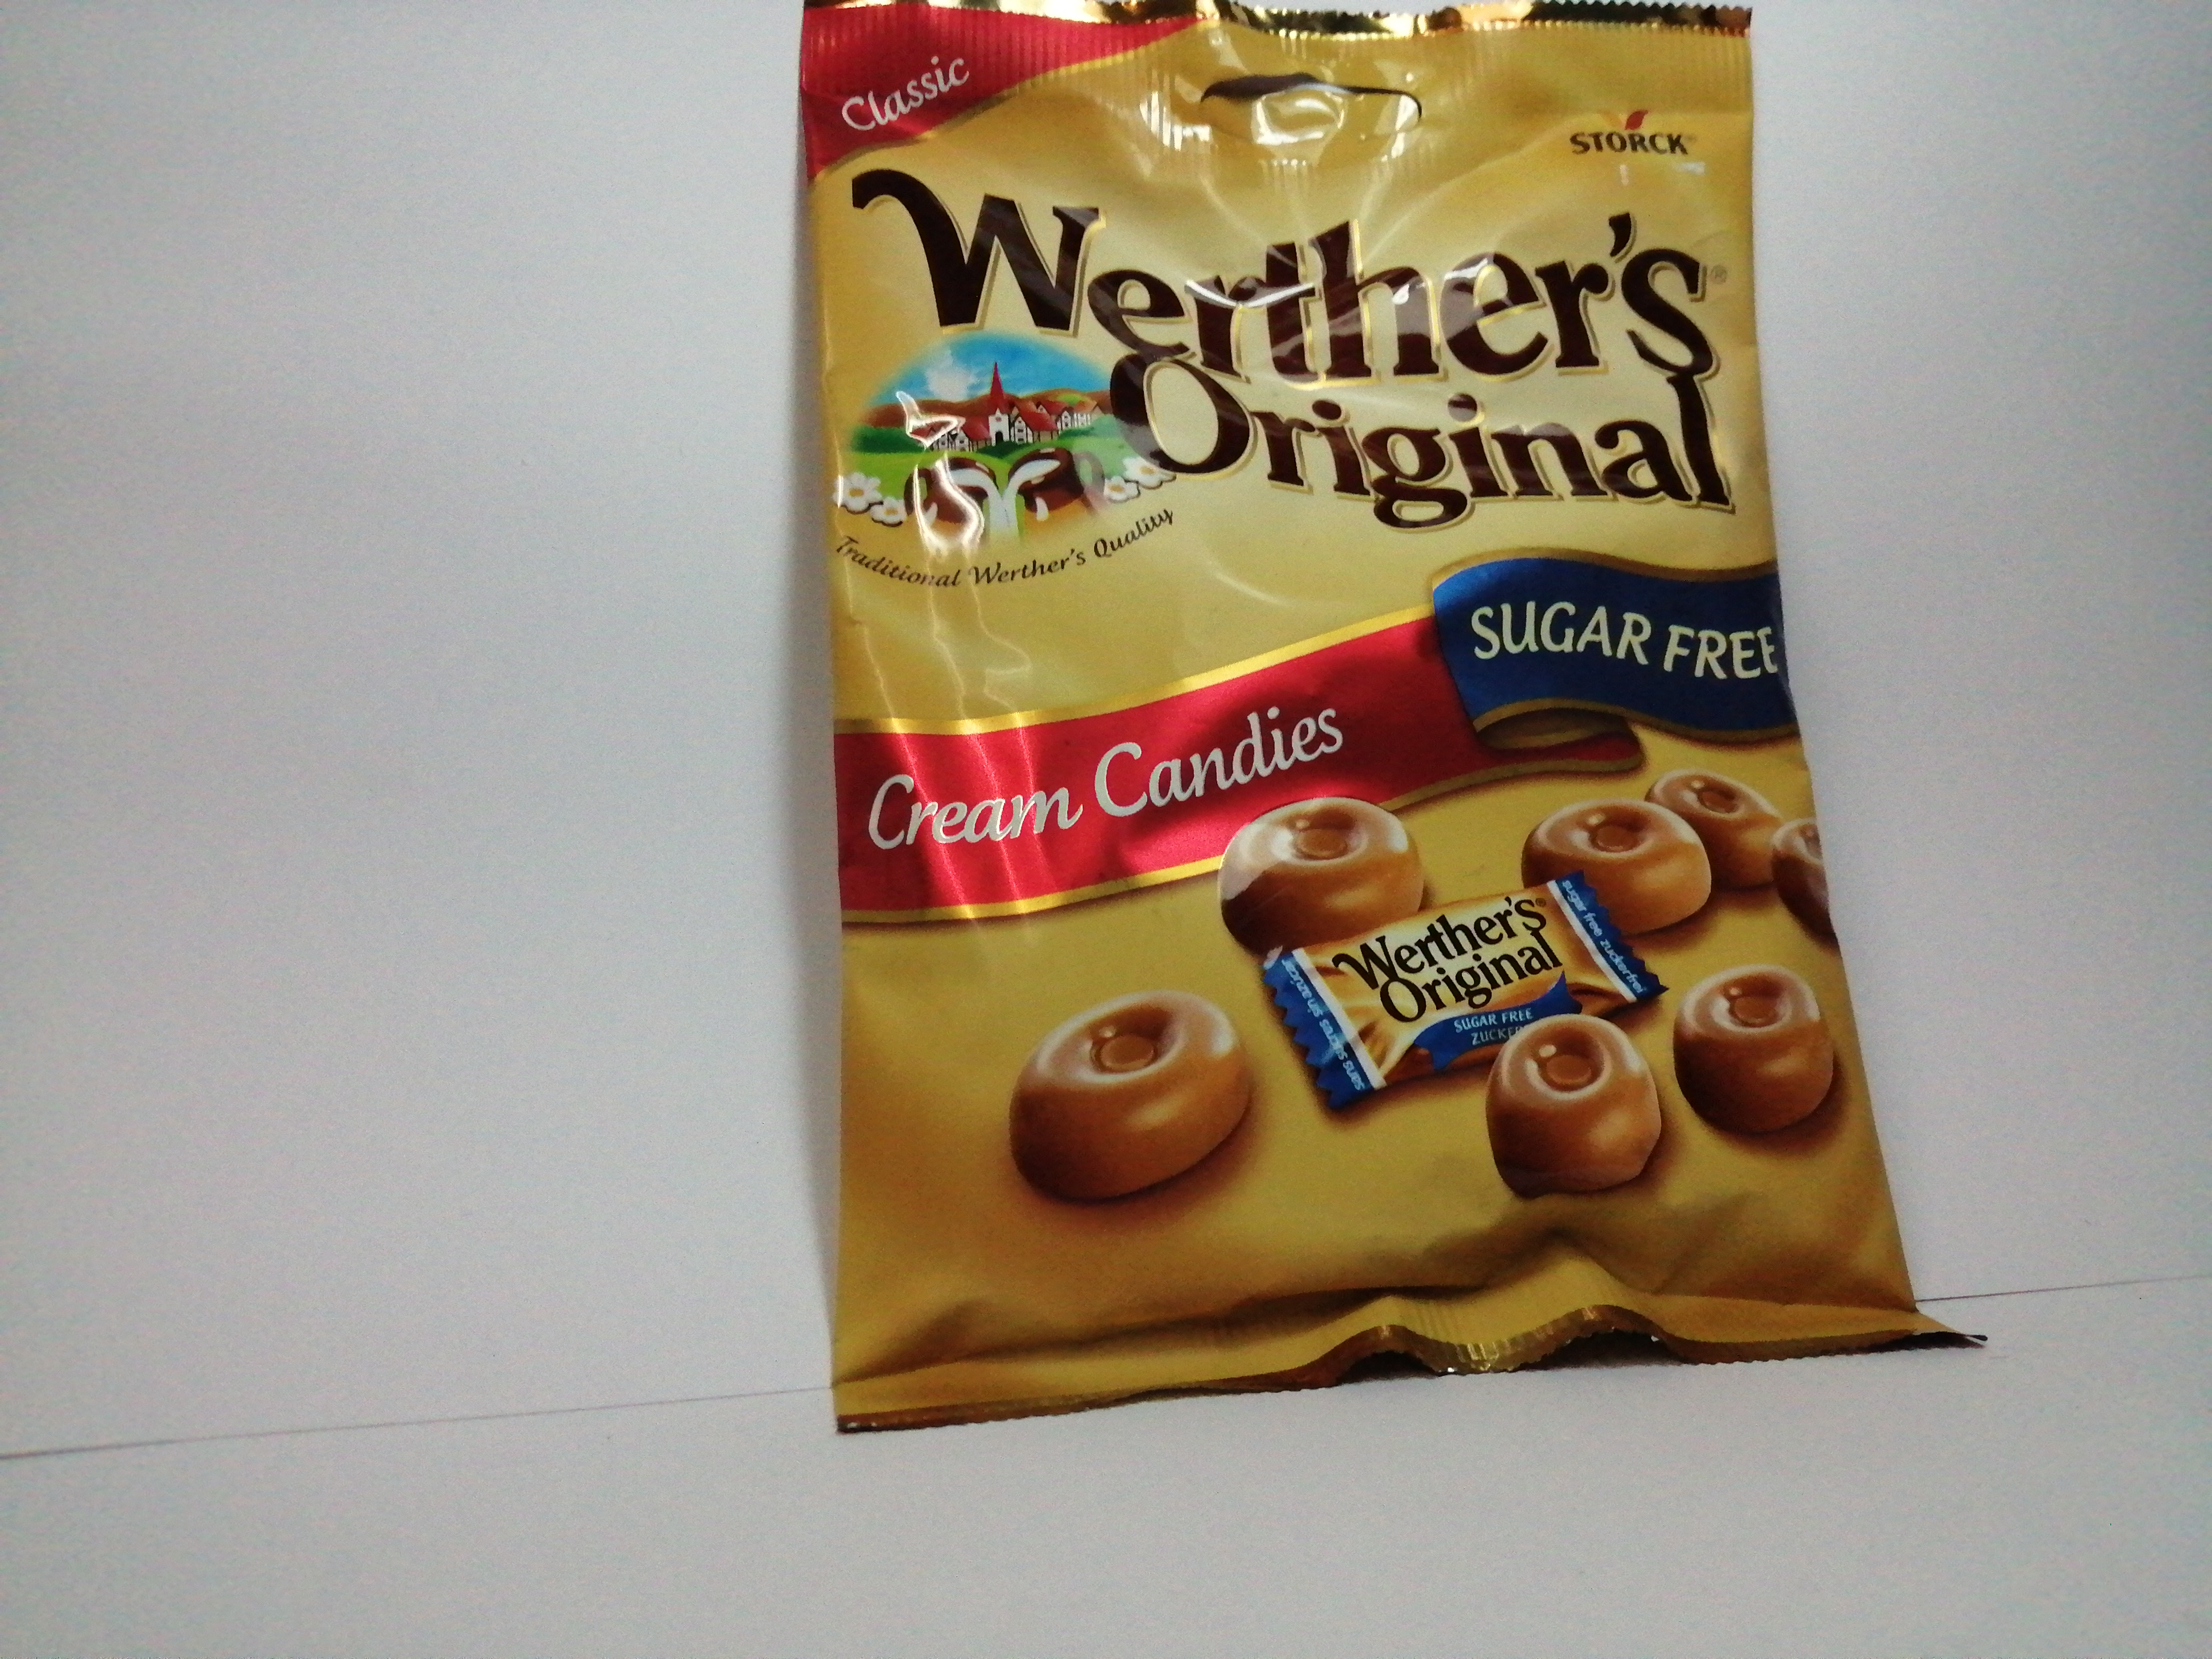dulces: (789, 0, 1977, 1443)
